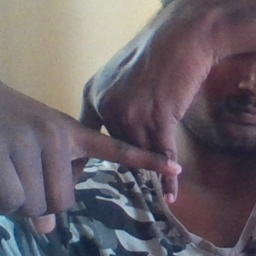H: (44, 87, 193, 220)
